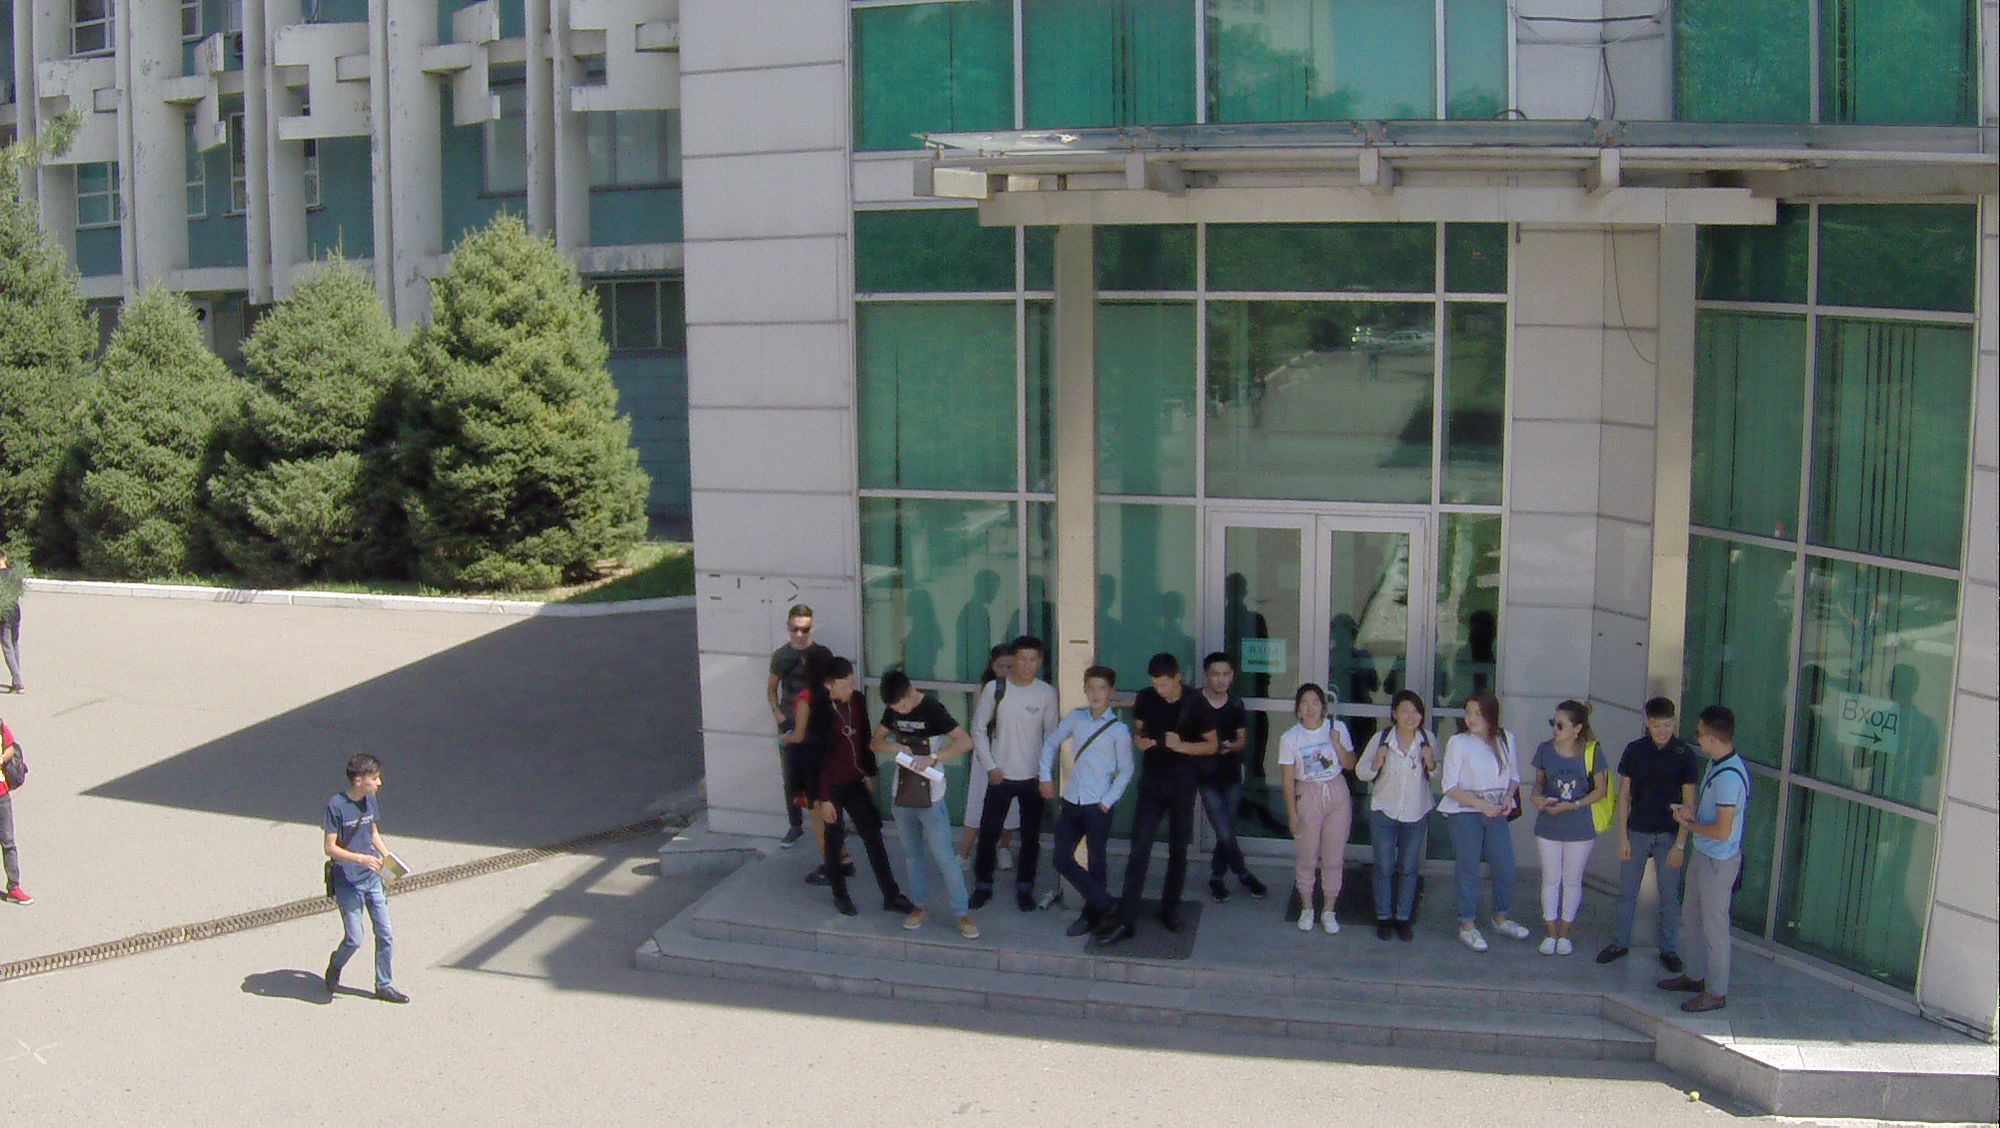person: (1661, 694, 1756, 1017), (310, 749, 422, 1016), (883, 676, 987, 947), (1434, 670, 1528, 969), (1039, 667, 1130, 959), (1128, 644, 1207, 947), (1530, 690, 1615, 967), (1188, 643, 1269, 916), (810, 655, 888, 931), (1277, 670, 1350, 941), (1366, 691, 1440, 945), (977, 628, 1042, 913), (1621, 684, 1684, 970), (766, 607, 825, 868)
